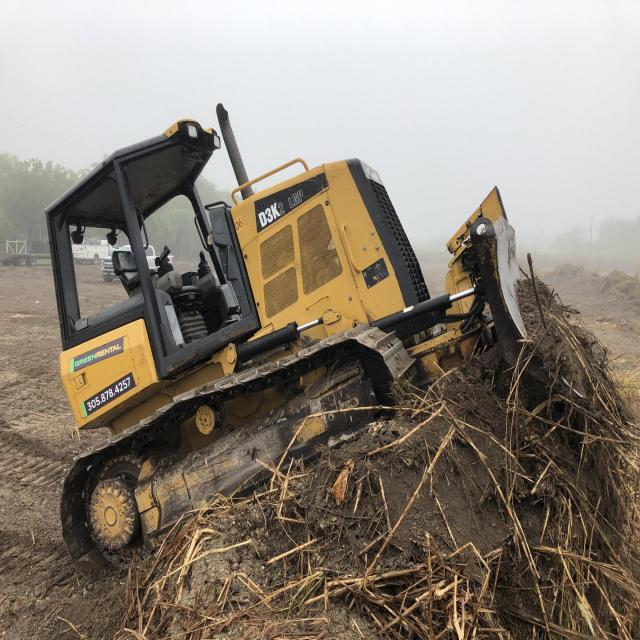buldozerpayloadergrader: (31, 98, 608, 578)
